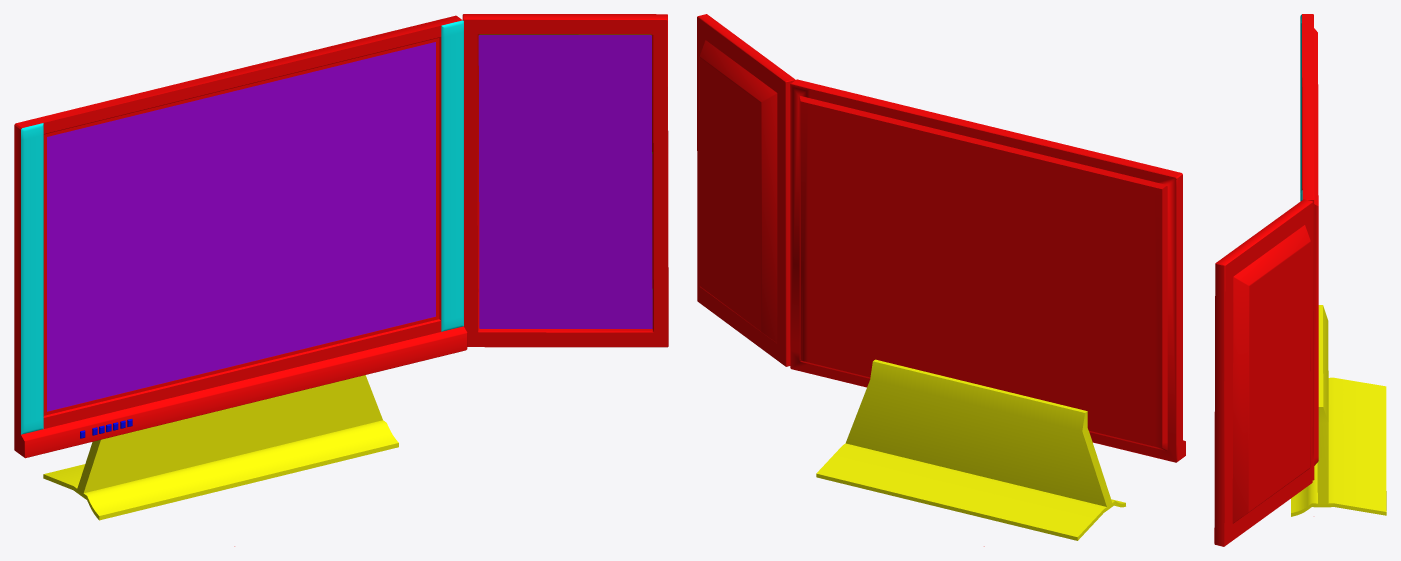
The model's file is desktops_grp.fbx.
The picture shows the model from 3 angles, left to right: view 1: azimuth 30°, elevation 25°; view 2: azimuth 150°, elevation 25°; view 3: azimuth 270°, elevation 25°; orthographic projection. The views are drawn at different scales.
Visible parts, largest first — view 1: desktop_1; view 2: desktop_1; view 3: desktop_1.
Boxes of the visible parts, left/top/right/bottom form: desktop_1: left=14, top=14, right=668, bottom=546; desktop_1: left=697, top=14, right=1185, bottom=546; desktop_1: left=1214, top=14, right=1386, bottom=546.
Bounding box in the file's own units: 86.85 × 65.83 × 25.02.
